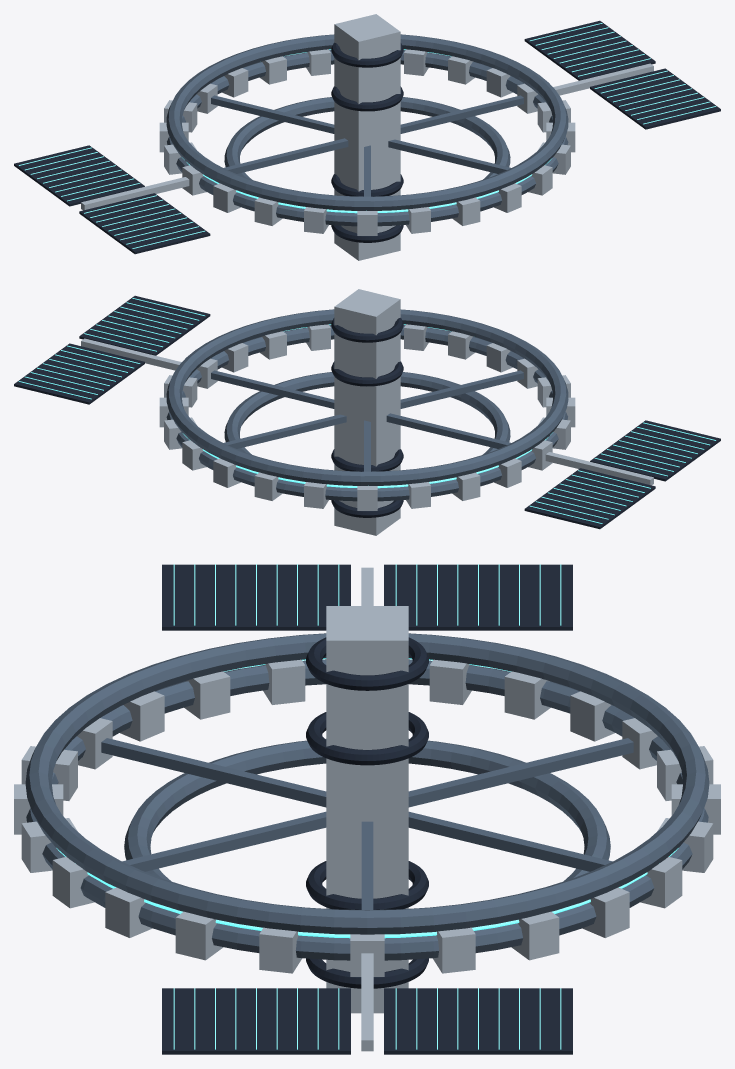
The model's file is station.glb.
The picture shows the model from 3 angles, top to bottom: view 1: azimuth 30°, elevation 25°; view 2: azimuth 150°, elevation 25°; view 3: azimuth 270°, elevation 25°; orthographic projection. The views are drawn at different scales.
Visible parts, largest first — view 1: HabitatRing.001, CommandSpine, HabitatRing, SolarArray, SolarArray.002, SolarArray.001, SolarArray.003, HabitatRing.002, RadialTruss, RadialTruss.002, RadialTruss.003, RadialTruss.005 (+28 smaller); view 2: HabitatRing.001, CommandSpine, HabitatRing, SolarArray.001, SolarArray.003, SolarArray, SolarArray.002, HabitatRing.002, RadialTruss, RadialTruss.004, RadialTruss.003, RadialTruss.001 (+28 smaller); view 3: HabitatRing.001, CommandSpine, HabitatRing, SolarArray.002, SolarArray.003, SolarArray, SolarArray.001, HabitatRing.002, RadialTruss.002, RadialTruss.004, RadialTruss.001, RadialTruss.005 (+30 smaller).
Boxes of the visible parts, bbox=[...] form: HabitatRing.001: bbox=[166, 34, 568, 210]; CommandSpine: bbox=[334, 14, 400, 260]; HabitatRing: bbox=[167, 50, 568, 226]; SolarArray: bbox=[79, 193, 210, 254]; SolarArray.002: bbox=[590, 68, 720, 129]; SolarArray.001: bbox=[14, 145, 144, 206]; SolarArray.003: bbox=[524, 20, 655, 80]; HabitatRing.002: bbox=[224, 97, 510, 179]; RadialTruss: bbox=[400, 95, 523, 133]; RadialTruss.002: bbox=[211, 95, 334, 133]; RadialTruss.003: bbox=[224, 138, 348, 173]; RadialTruss.005: bbox=[388, 139, 510, 173]; HabitatRing.001: bbox=[166, 309, 568, 485]; CommandSpine: bbox=[334, 289, 400, 535]; HabitatRing: bbox=[166, 325, 567, 501]; SolarArray.001: bbox=[524, 468, 655, 529]; SolarArray.003: bbox=[14, 343, 144, 404]; SolarArray: bbox=[590, 420, 720, 481]; SolarArray.002: bbox=[79, 295, 210, 355]; HabitatRing.002: bbox=[224, 372, 510, 454]; RadialTruss: bbox=[211, 370, 334, 408]; RadialTruss.004: bbox=[400, 370, 523, 408]; RadialTruss.003: bbox=[386, 413, 510, 448]; RadialTruss.001: bbox=[224, 414, 346, 448]; HabitatRing.001: bbox=[25, 633, 709, 934]; CommandSpine: bbox=[326, 606, 408, 1013]; HabitatRing: bbox=[26, 659, 708, 960]; SolarArray.002: bbox=[162, 988, 350, 1054]; SolarArray.003: bbox=[384, 988, 572, 1054]; SolarArray: bbox=[162, 564, 350, 630]; SolarArray.001: bbox=[384, 564, 572, 630]; HabitatRing.002: bbox=[124, 739, 610, 881]; RadialTruss.002: bbox=[408, 738, 633, 807]; RadialTruss.004: bbox=[101, 738, 326, 807]; RadialTruss.001: bbox=[408, 811, 612, 871]; RadialTruss.005: bbox=[122, 811, 326, 871].
Bounding box in the file's own units: 14 × 5 × 8.6.
